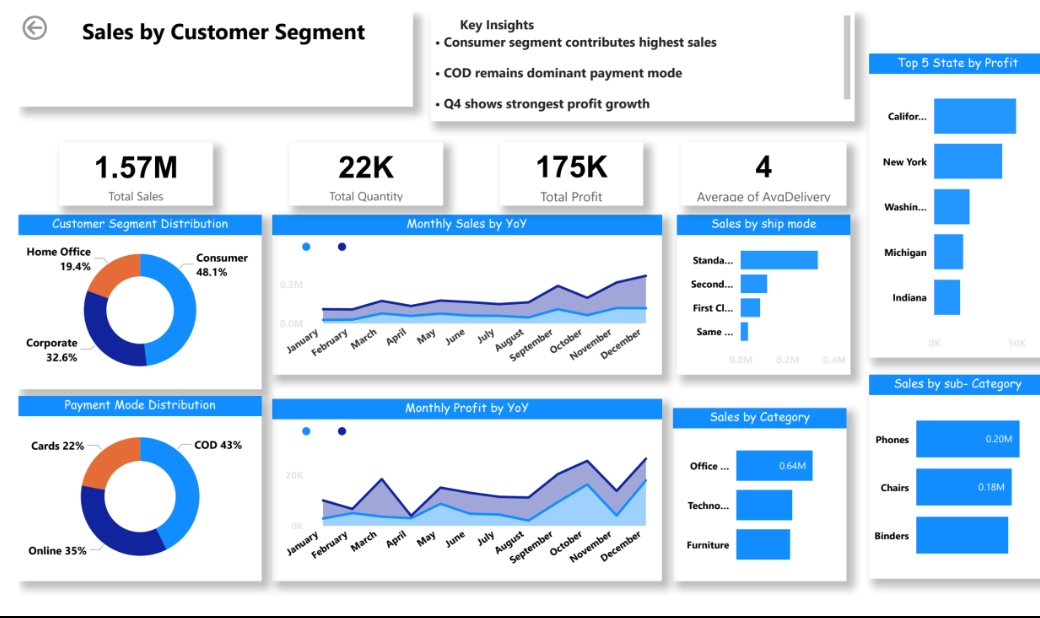

What the dashboard file says about the page in this screenshot:
{"tool":"powerbi","page":{"name":"Page 1","canvas":[1280,720],"ordinal":0},"visuals":[{"type":"clusteredBarChart","title":" Sales by sub- Category","fields":{"Category":["SuperStore_Sales_Dataset.Sub-Category"],"Y":["Sum(SuperStore_Sales_Dataset.Sales)"]},"box":[1045.9,447.3,218,250.5],"z":0},{"type":"clusteredBarChart","title":" Sales by Category","fields":{"Category":["SuperStore_Sales_Dataset.Category"],"Y":["Sum(SuperStore_Sales_Dataset.Sales)"]},"box":[805.1,488,213.1,213.1],"z":1000},{"type":"clusteredBarChart","title":" Sales by ship mode","fields":{"Category":["SuperStore_Sales_Dataset.Ship Mode"],"Y":["Sum(SuperStore_Sales_Dataset.Sales)"]},"box":[810,250.5,213.1,196.8],"z":2000},{"type":"stackedAreaChart","title":" Monthly Sales by YoY","fields":{"Y":["Sum(SuperStore_Sales_Dataset.Sales)"],"Category":["SuperStore_Sales_Dataset.Order Date.Variation.Date Hierarchy.Month","SuperStore_Sales_Dataset.Order Date.Variation.Date Hierarchy.Day"],"Series":["SuperStore_Sales_Dataset.Order Date.Variation.Date Hierarchy.Year"]},"box":[312.3,250.5,478.2,196.8],"z":3000},{"type":"stackedAreaChart","title":" Monthly Profit by YoY","fields":{"Category":["SuperStore_Sales_Dataset.Order Date.Variation.Date Hierarchy.Month","SuperStore_Sales_Dataset.Order Date.Variation.Date Hierarchy.Day"],"Series":["SuperStore_Sales_Dataset.Order Date.Variation.Date Hierarchy.Year"],"Y":["Sum(SuperStore_Sales_Dataset.Profit)"]},"box":[312.3,476.6,478.2,224.5],"z":4000},{"type":"donutChart","title":"Customer Segment Distribution","fields":{"Category":["SuperStore_Sales_Dataset.Segment"],"Y":["Sum(SuperStore_Sales_Dataset.Sales)"]},"box":[0,250.5,299.3,214.7],"z":5000},{"type":"donutChart","title":" Payment Mode Distribution","fields":{"Category":["SuperStore_Sales_Dataset.Payment Mode"],"Y":["Sum(SuperStore_Sales_Dataset.Sales)"]},"box":[0,473.3,299.3,227.7],"z":6000},{"type":"actionButton","box":[0,0,100,40],"z":7000},{"type":"textbox","box":[0,0,484.7,117.1],"z":8000},{"type":"card","title":"sales","fields":{"Values":["Sum(SuperStore_Sales_Dataset.Sales)"]},"box":[50.4,161,188.7,78.1],"z":9000},{"type":"card","title":"sales","fields":{"Values":["Sum(SuperStore_Sales_Dataset.Quantity)"]},"box":[333.4,161,188.7,78.1],"z":10000},{"type":"card","title":"sales","fields":{"Values":["Sum(SuperStore_Sales_Dataset.Profit)"]},"box":[592.1,161,175.7,78.1],"z":11000},{"type":"card","title":"sales","fields":{"Values":["Avg(SuperStore_Sales_Dataset.AvgDelivery)"]},"box":[814.9,161,203.3,78.1],"z":12000},{"type":"clusteredBarChart","title":"Top 5 State by Profit ","fields":{"Category":["SuperStore_Sales_Dataset.State"],"Y":["Sum(SuperStore_Sales_Dataset.Profit)"]},"box":[1045.9,52,218,374.1],"z":13000},{"type":"textbox","box":[507.5,0,520.5,135],"z":14000}]}

Visuals, with their boxes on the page's 1280x720 design canvas (x1, y1, x2, y2). These are canvas units, not pixel positions in the 1040x618 screenshot, which may show the page scaled, cropped or inside an application window:
" Sales by sub- Category" clusteredBarChart: box=[1046, 447, 1264, 698]
" Sales by Category" clusteredBarChart: box=[805, 488, 1018, 701]
" Sales by ship mode" clusteredBarChart: box=[810, 250, 1023, 447]
" Monthly Sales by YoY" stackedAreaChart: box=[312, 250, 790, 447]
" Monthly Profit by YoY" stackedAreaChart: box=[312, 477, 790, 701]
"Customer Segment Distribution" donutChart: box=[0, 250, 299, 465]
" Payment Mode Distribution" donutChart: box=[0, 473, 299, 701]
actionButton: box=[0, 0, 100, 40]
textbox: box=[0, 0, 485, 117]
"sales" card: box=[50, 161, 239, 239]
"sales" card: box=[333, 161, 522, 239]
"sales" card: box=[592, 161, 768, 239]
"sales" card: box=[815, 161, 1018, 239]
"Top 5 State by Profit " clusteredBarChart: box=[1046, 52, 1264, 426]
textbox: box=[508, 0, 1028, 135]
